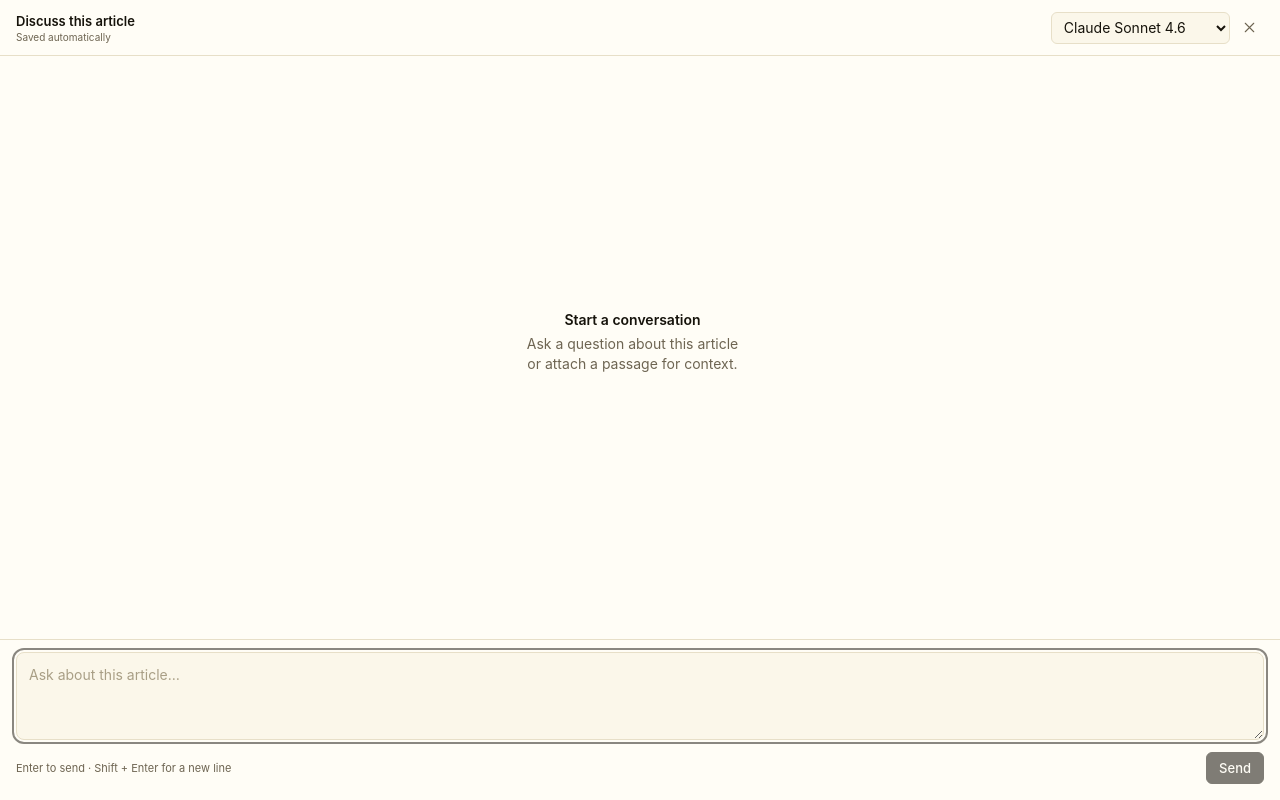
Test: ChatPanel › rolls back an optimistic message and restores the draft after a send error
Check: the text "Start a conversation" is shown, box x1=564 y1=310 x2=701 y2=328
Check: the dropdown named "AI model" shows "Claude Sonnet 4.6", box x1=1051 y1=12 x2=1230 y2=44
Type "keep this question" into the text box at (640, 696), box x1=16 y1=652 x2=1264 y2=740
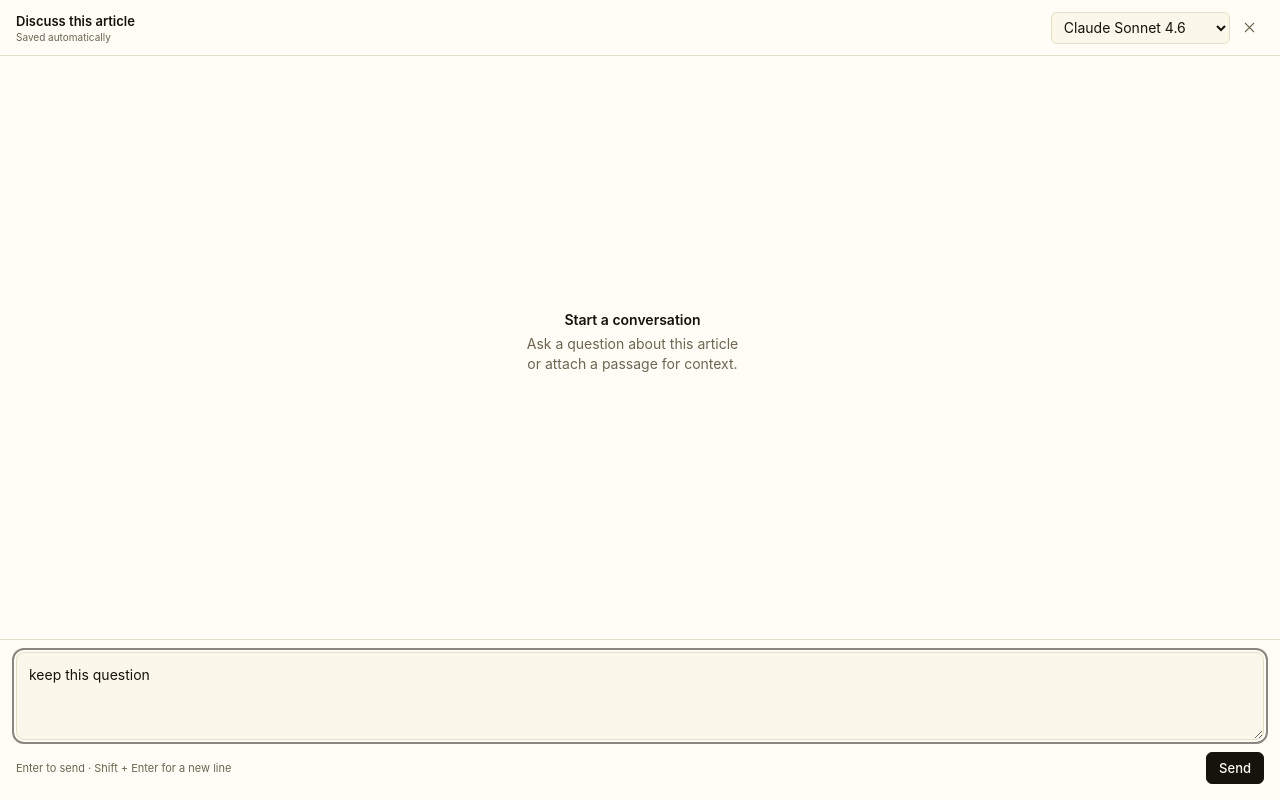
Click the button "Send" at (1235, 768), box x1=1206 y1=752 x2=1264 y2=784
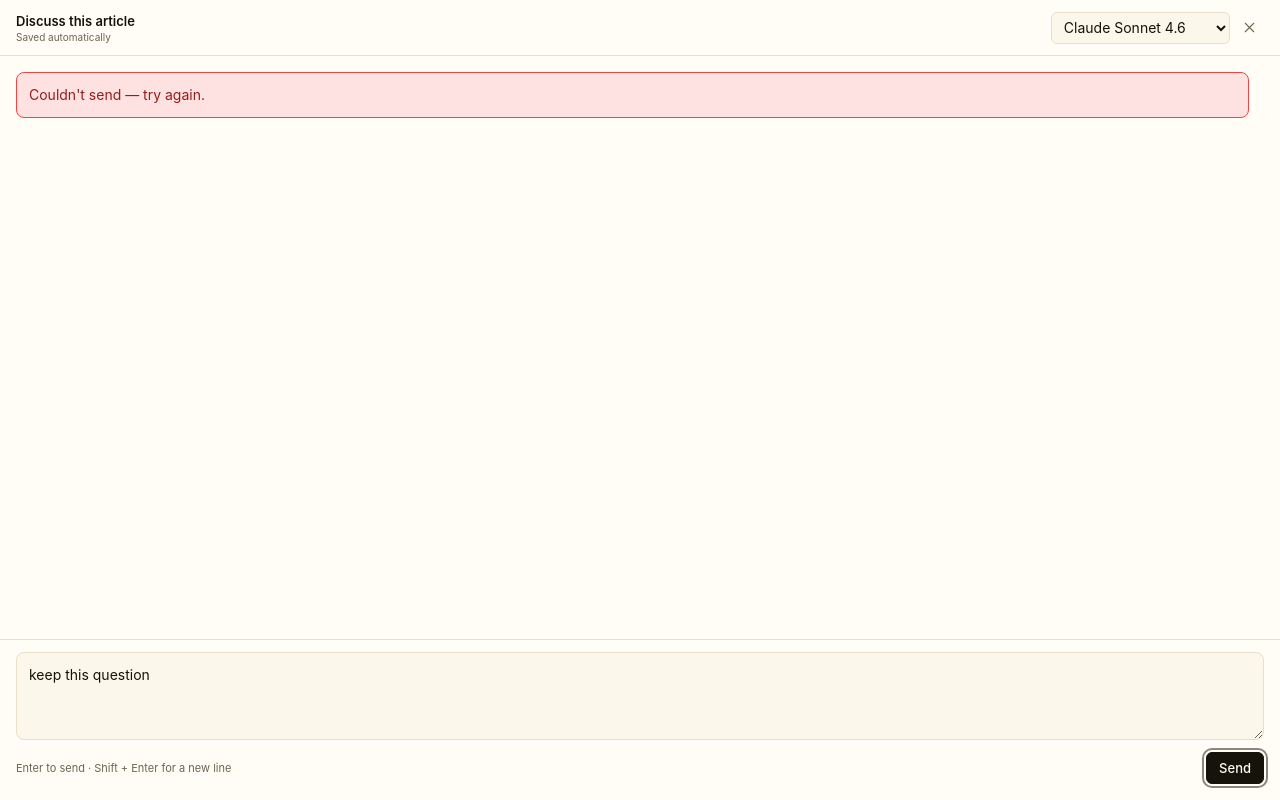
Check: the text "keep this question" is not shown
Check: the message "Couldn't send — try again." is shown, box x1=16 y1=72 x2=1249 y2=118
